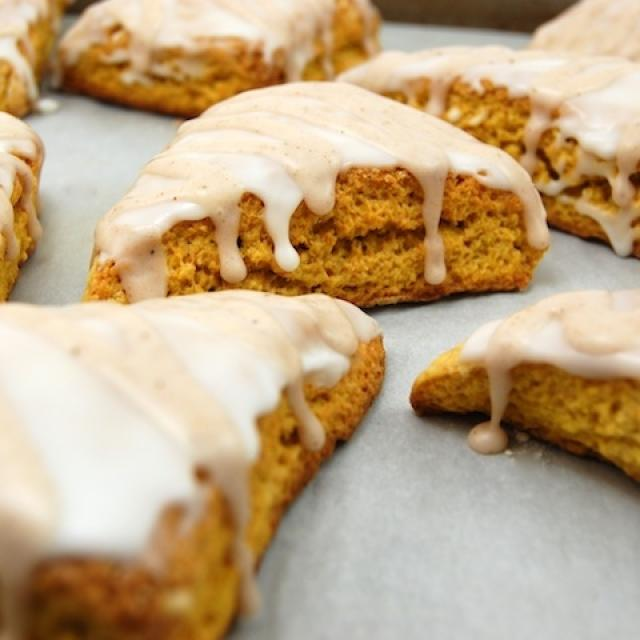面包点心: (4, 3, 625, 624)
